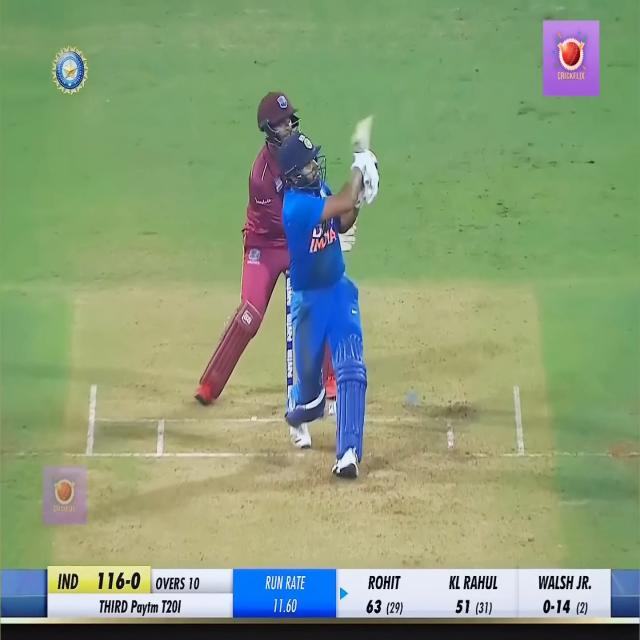fully_visible: (131, 596, 160, 623)
